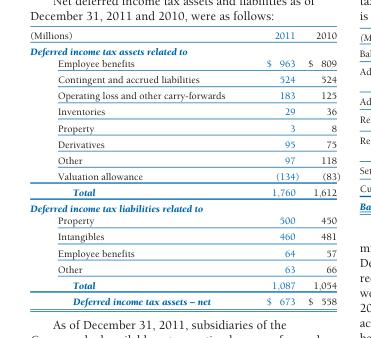table: (29, 29, 339, 306)
table column: (29, 29, 245, 306), (245, 29, 302, 306), (302, 29, 339, 306)
table column header: (29, 29, 339, 42)
table projected row header: (29, 42, 339, 57), (29, 200, 339, 214)
table row: (29, 183, 339, 200), (29, 71, 339, 87), (29, 87, 339, 103), (29, 103, 339, 119), (29, 119, 339, 135), (29, 135, 339, 151), (29, 151, 339, 167), (29, 167, 339, 183), (29, 228, 339, 244), (29, 244, 339, 260), (29, 260, 339, 276), (29, 276, 339, 292), (29, 42, 339, 57), (29, 57, 339, 71), (29, 200, 339, 214), (29, 214, 339, 228), (29, 292, 339, 306), (29, 29, 339, 42)
